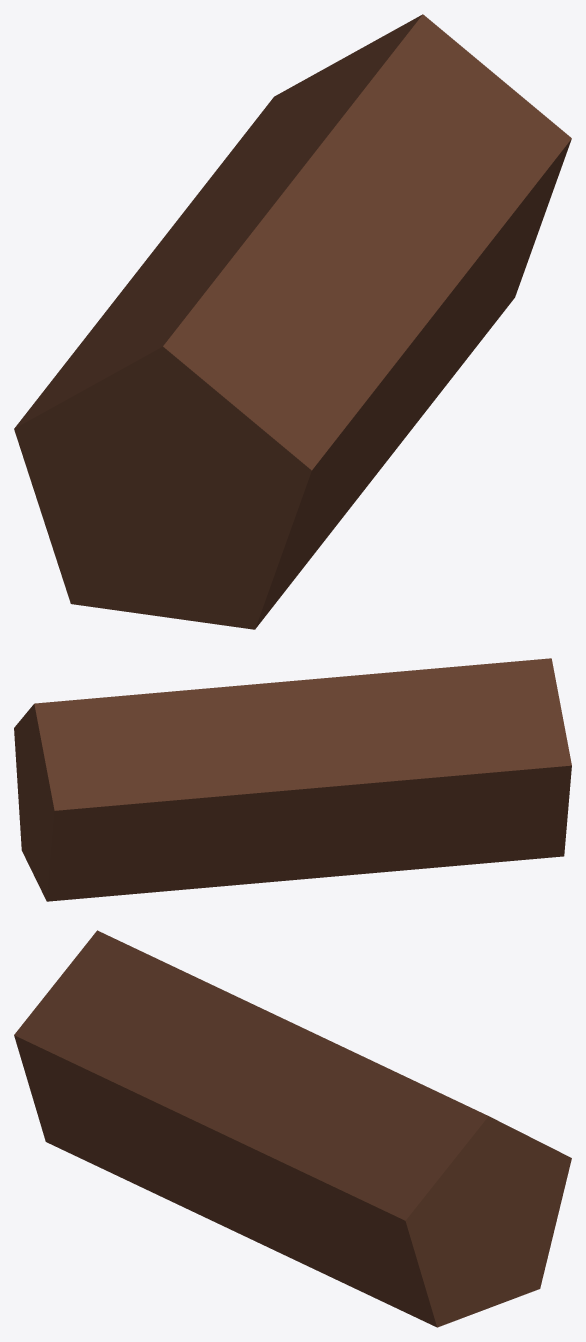
File: snowboard.glb
3 views of the same model, one above another, from view 1: azimuth 30°, elevation 25°; view 2: azimuth 150°, elevation 25°; view 3: azimuth 270°, elevation 25° (orthographic). The views are drawn at different scales.
Visible parts, largest first — view 1: Cylinder; view 2: Cylinder; view 3: Cylinder.
Boxes of the visible parts, x1,y1,x2,y2 form: Cylinder: [14, 14, 571, 629]; Cylinder: [14, 658, 571, 901]; Cylinder: [14, 930, 571, 1327].
Bounding box in the file's own units: 2.65 × 0.9563 × 2.52.
